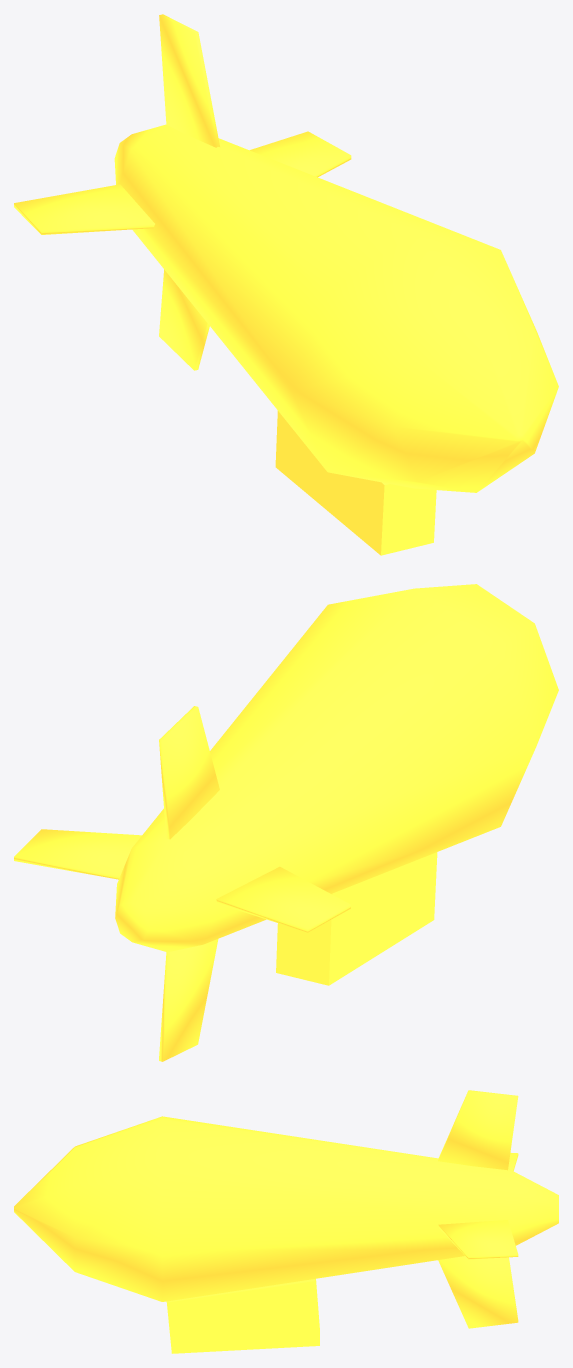
The model's file is BigBlimp.fbx.
3 renders of one model, top to bottom at view 1: azimuth 30°, elevation 25°; view 2: azimuth 150°, elevation 25°; view 3: azimuth 270°, elevation 25°, orthographic. The views are drawn at different scales.
Visible parts, largest first — view 1: Cylinder; view 2: Cylinder; view 3: Cylinder.
Boxes of the visible parts, bbox=[...] form: Cylinder: bbox=[14, 14, 558, 555]; Cylinder: bbox=[14, 584, 558, 1061]; Cylinder: bbox=[14, 1090, 558, 1353].
Bounding box in the file's own units: 261 × 292 × 567.
